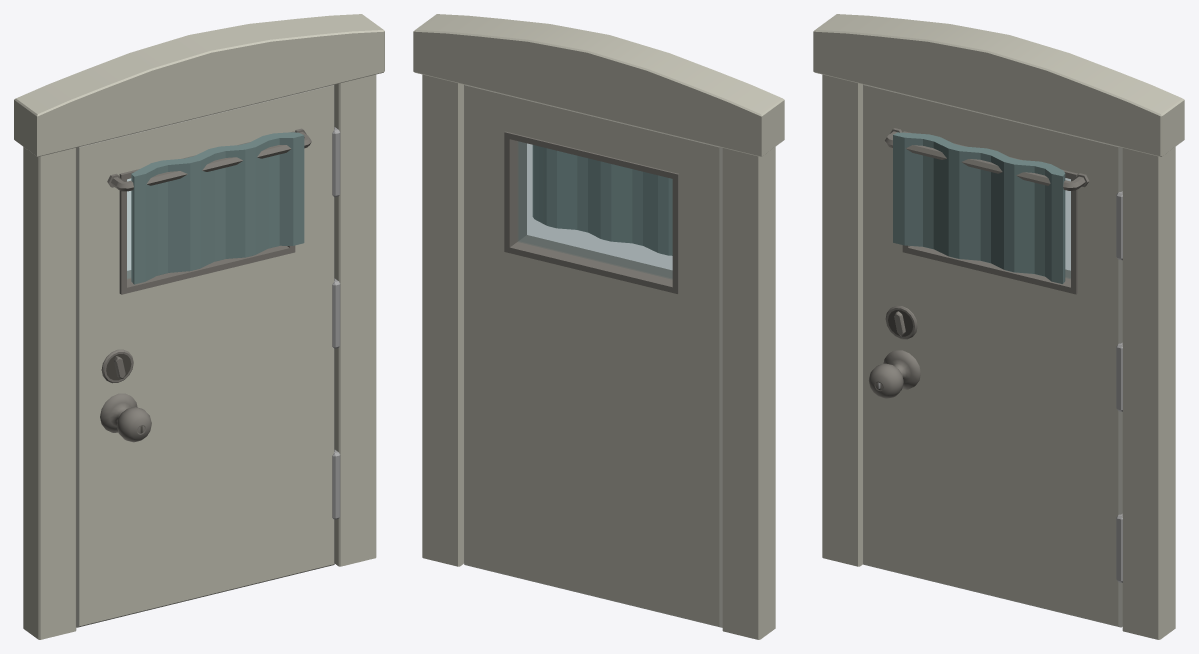
File: Front_Door.fbx
3 renders of one model, left to right at view 1: azimuth 30°, elevation 25°; view 2: azimuth 150°, elevation 25°; view 3: azimuth 330°, elevation 25°, orthographic.
Visible parts, largest first — view 1: Door, Doorframe; view 2: Door, Doorframe; view 3: Door, Doorframe.
Part boxes in pixels (left/top/right/bottom): Door: left=76, top=84, right=334, bottom=627; Doorframe: left=14, top=14, right=384, bottom=639; Door: left=464, top=85, right=722, bottom=627; Doorframe: left=413, top=14, right=784, bottom=639; Door: left=863, top=84, right=1122, bottom=627; Doorframe: left=813, top=14, right=1184, bottom=639.
Size of the model in its own units: 179 by 269 by 37.66.
